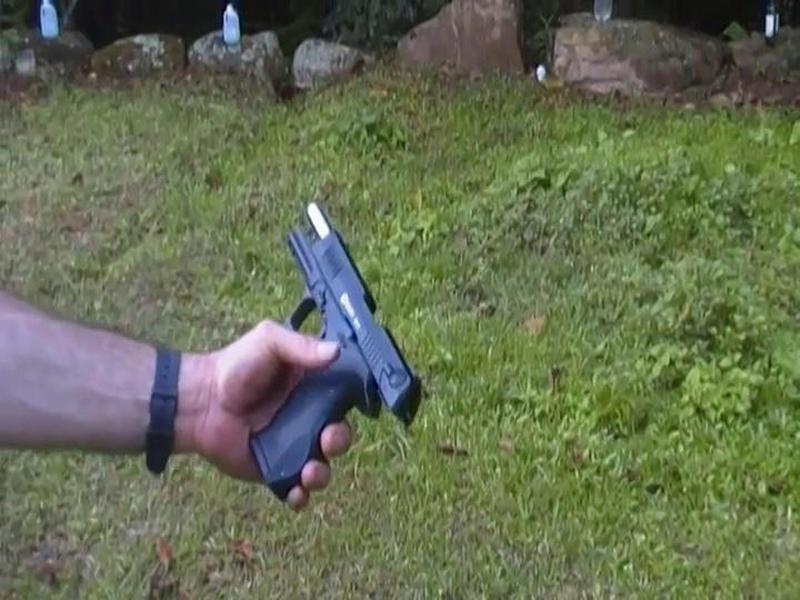Pistola: (225, 187, 435, 507)
